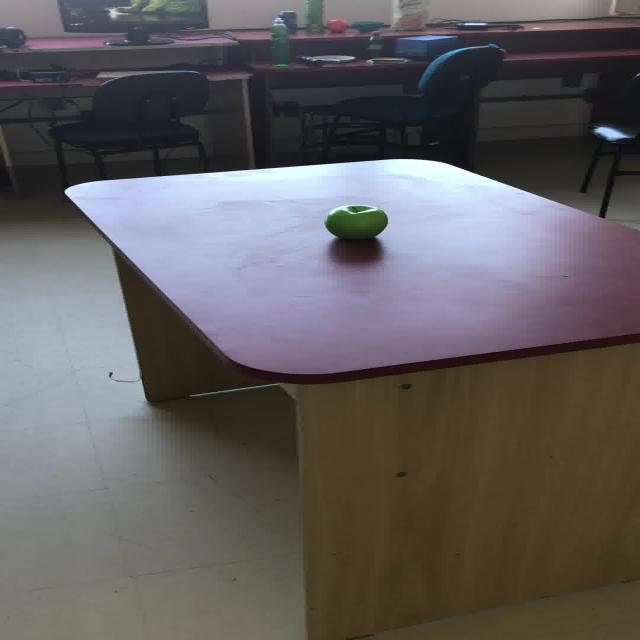apple: (323, 204, 387, 239), (325, 18, 347, 32)
